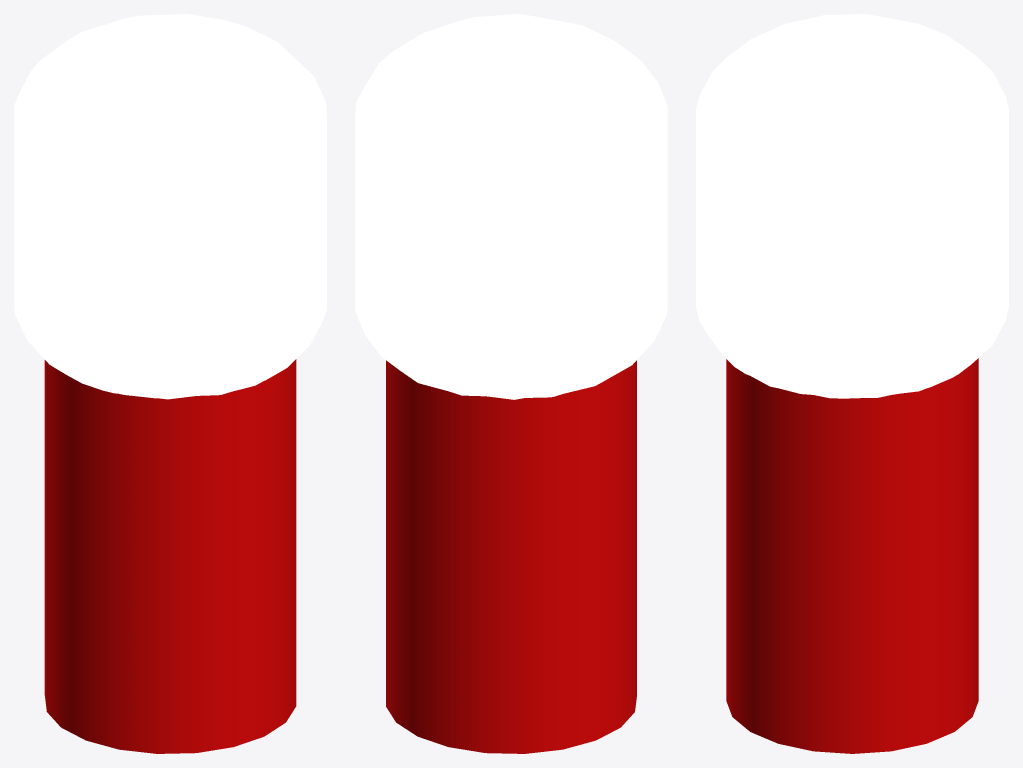
The model's file is Light.glb.
The picture shows the model from 3 angles, left to right: view 1: azimuth 30°, elevation 25°; view 2: azimuth 150°, elevation 25°; view 3: azimuth 270°, elevation 25°; orthographic projection.
Parts seen in each view (by area): view 1: Bulb, Stand; view 2: Bulb, Stand; view 3: Bulb, Stand.
Part boxes in pixels (box(x1,y1,x2,y2)): Bulb: box(14, 14, 326, 399); Stand: box(44, 359, 296, 753); Bulb: box(355, 14, 667, 399); Stand: box(386, 360, 636, 753); Bulb: box(696, 14, 1008, 398); Stand: box(726, 358, 978, 753).
Size of the model in its own units: 0.6195 by 1.45 by 0.6195.
